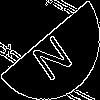N: (25, 25, 75, 84)
